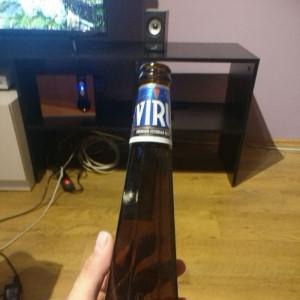beer: (105, 62, 185, 300)
